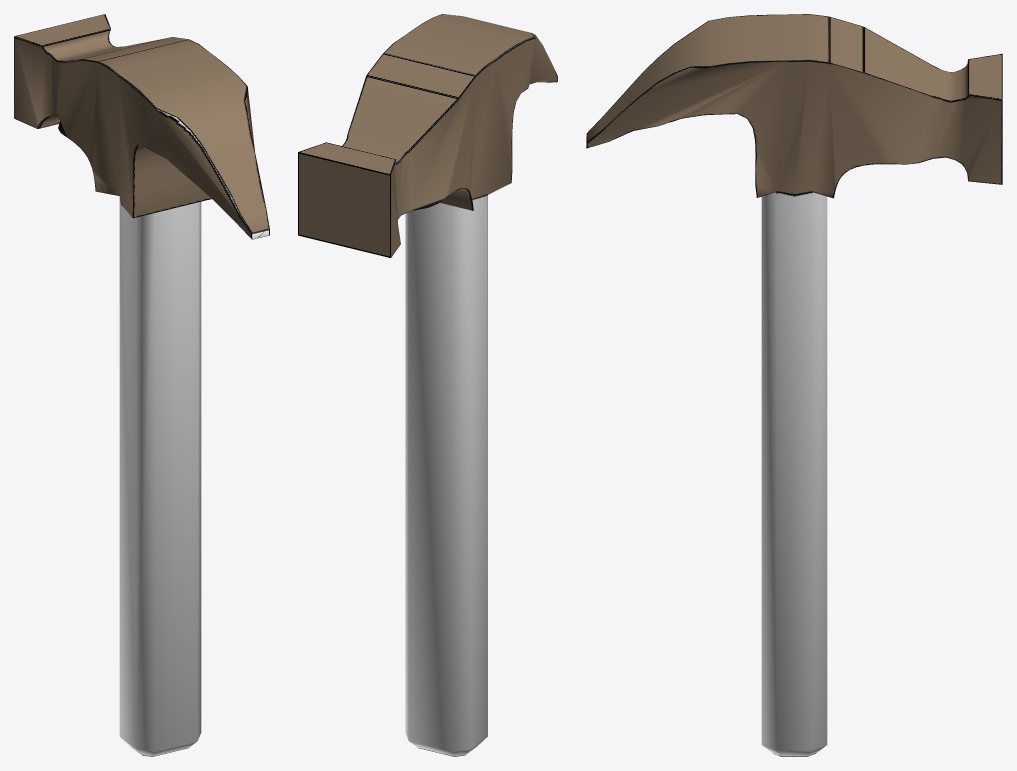
The model's file is hammer.FBX.
3 views of the same model, side by side, from view 1: azimuth 30°, elevation 25°; view 2: azimuth 150°, elevation 25°; view 3: azimuth 270°, elevation 25° (orthographic). The views are drawn at different scales.
Parts seen in each view (by area): view 1: hammer; view 2: hammer; view 3: hammer.
Part boxes in pixels (left/top/right/bottom): hammer: left=14, top=14, right=269, bottom=756; hammer: left=298, top=14, right=557, bottom=756; hammer: left=586, top=14, right=1002, bottom=756.
Bounding box in the file's own units: 31.5 × 225 × 120.
